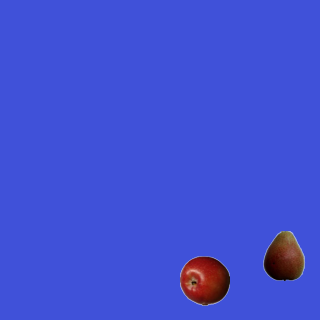Apple Braeburn: (179, 255, 229, 305)
Pear Forelle: (258, 230, 308, 280)
